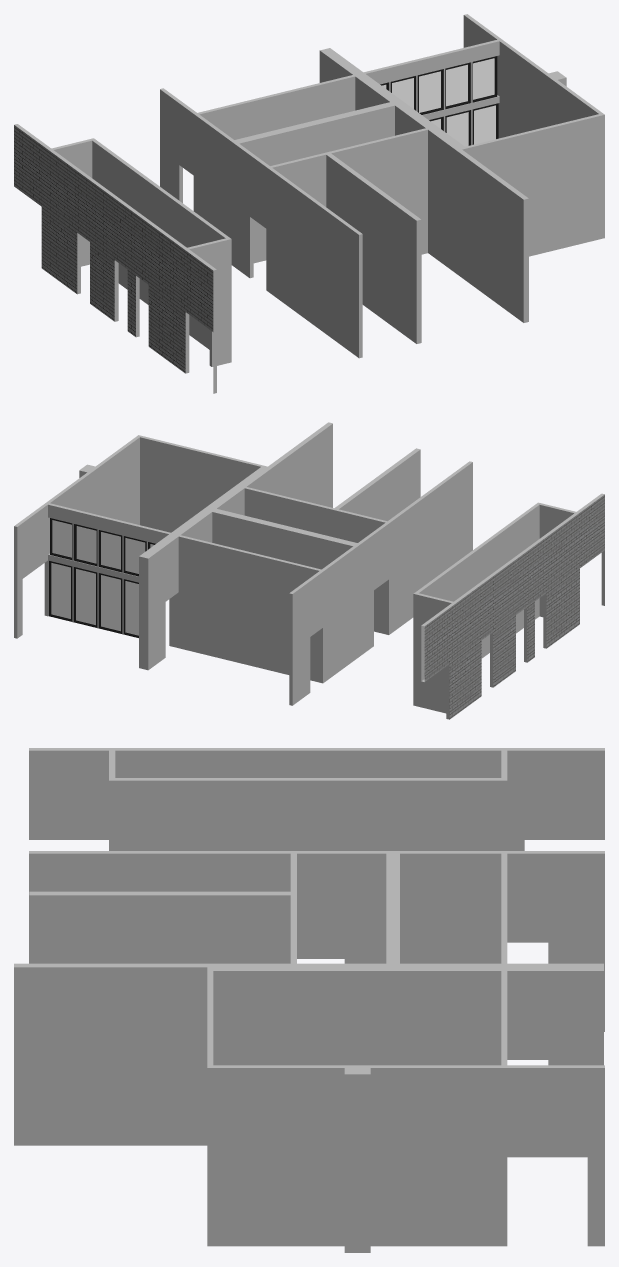
Rendered from MSH_Muros_Lobby_T2.FBX.
3 views of the same model, one above another, from view 1: azimuth 30°, elevation 25°; view 2: azimuth 150°, elevation 25°; view 3: azimuth 270°, elevation 25° (orthographic). The views are drawn at different scales.
Parts seen in each view (by area): view 1: MSH_Muros_Lobby_T2; view 2: MSH_Muros_Lobby_T2; view 3: MSH_Muros_Lobby_T2.
Part boxes in pixels (box(x1,y1,x2,y2)): MSH_Muros_Lobby_T2: box(14, 14, 604, 393); MSH_Muros_Lobby_T2: box(14, 422, 604, 719); MSH_Muros_Lobby_T2: box(14, 748, 604, 1252).
Bounding box in the file's own units: 1883 × 480 × 1441.
